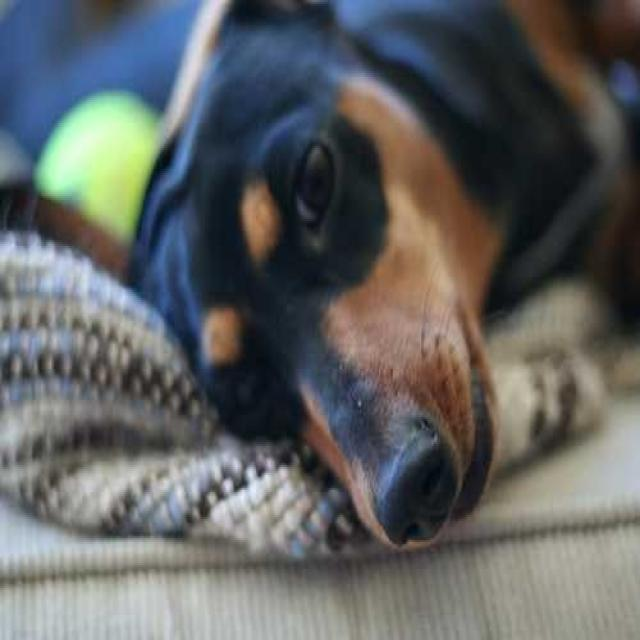Tennis_Ball: (39, 93, 154, 241)
